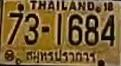1: (57, 13, 61, 44)
3: (24, 13, 38, 44)
4: (101, 14, 114, 46)
6: (68, 13, 82, 45)
7: (8, 12, 22, 44)
8: (84, 14, 98, 45)
SPK: (24, 47, 97, 65)
